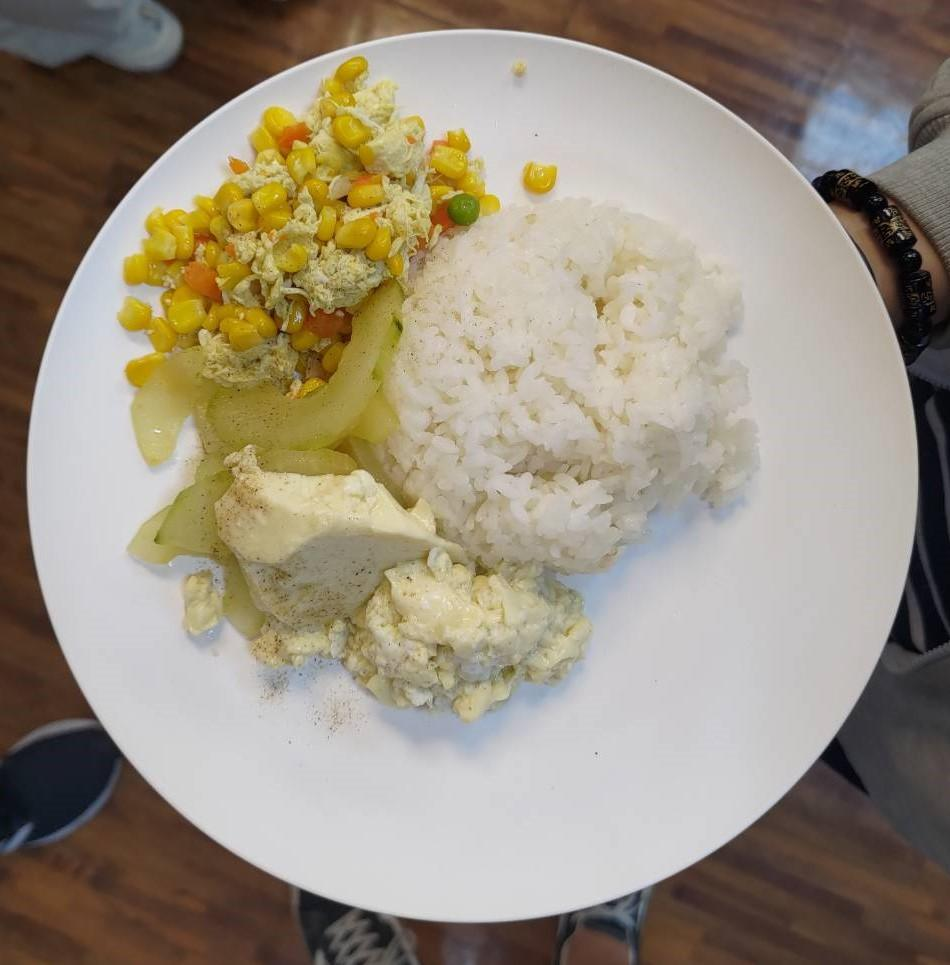big fried chicken leg: (8, 18, 928, 938)
big herbal chicken leg: (367, 196, 750, 562)
braised fish fillet: (135, 52, 440, 375), (200, 470, 600, 716), (104, 318, 413, 598)
